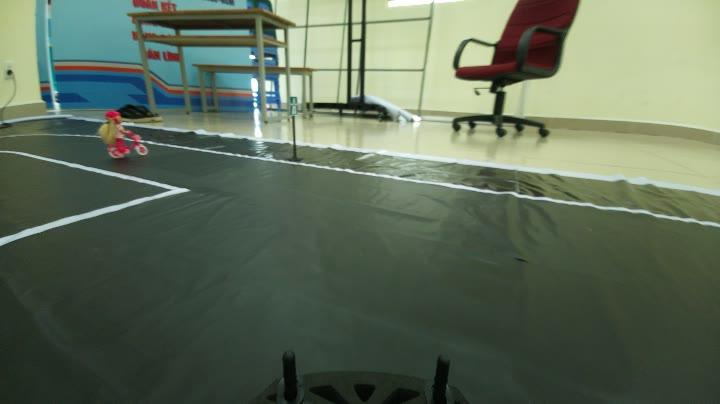pedestrian: (89, 102, 154, 162)
